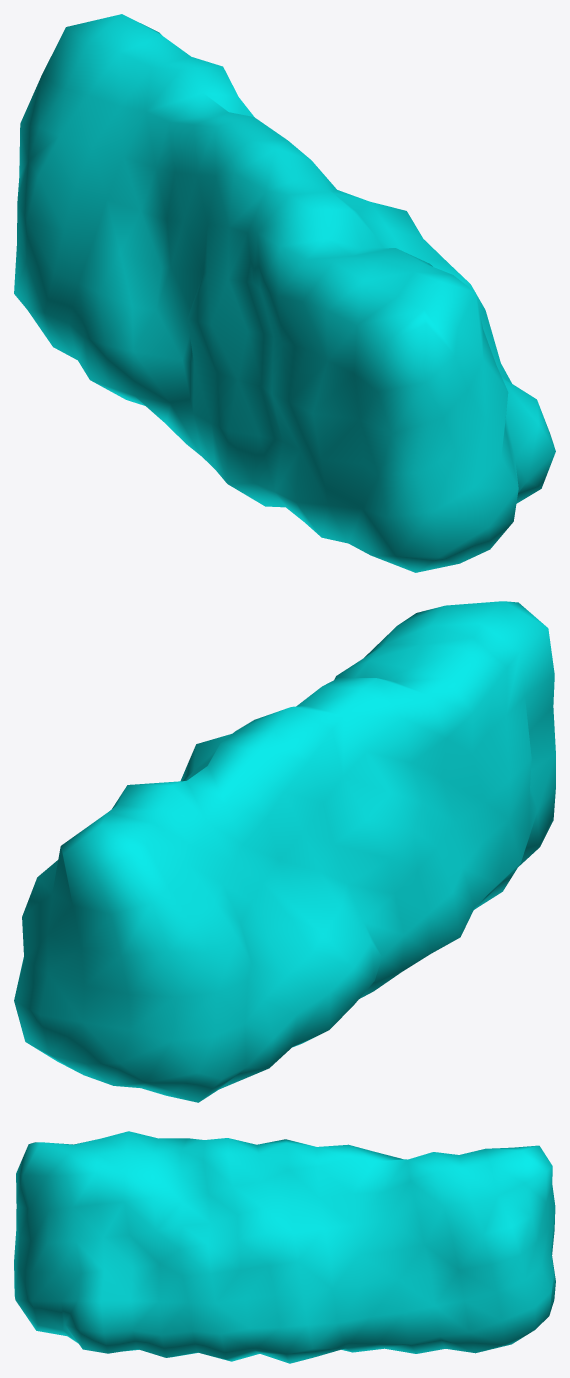
The model's file is BWallBWall_A_LP.fbx.
3 views of the same model, one above another, from view 1: azimuth 30°, elevation 25°; view 2: azimuth 150°, elevation 25°; view 3: azimuth 270°, elevation 25° (orthographic). The views are drawn at different scales.
Parts seen in each view (by area): view 1: BWall_A_LP; view 2: BWall_A_LP; view 3: BWall_A_LP.
Part boxes in pixels (x1,y1,x2,y2): BWall_A_LP: (14, 14, 555, 572); BWall_A_LP: (14, 601, 555, 1102); BWall_A_LP: (14, 1131, 555, 1363).
Bounding box in the file's own units: 7.63 × 7.79 × 19.69.
